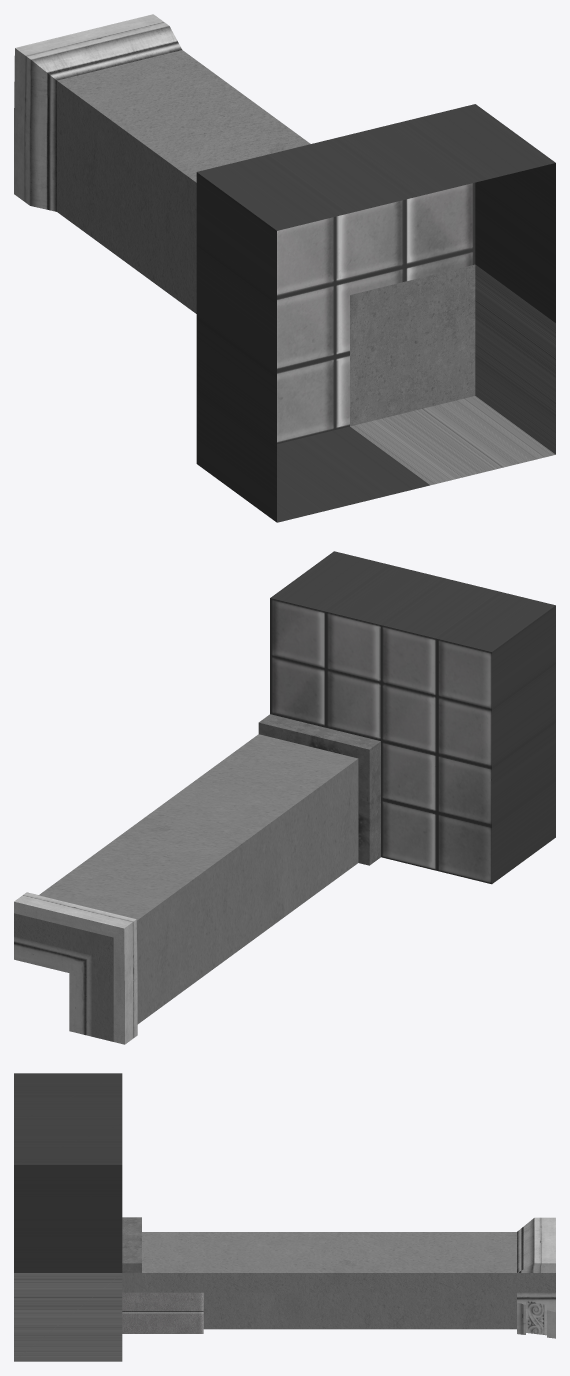
Rendered from A_ground_wall_ 2m_corner_B.fbx.
The picture shows the model from 3 angles, top to bottom: view 1: azimuth 30°, elevation 25°; view 2: azimuth 150°, elevation 25°; view 3: azimuth 270°, elevation 25°; orthographic projection. The views are drawn at different scales.
Parts seen in each view (by area): view 1: A_ground_wall__2m_corner_B; view 2: A_ground_wall__2m_corner_B; view 3: A_ground_wall__2m_corner_B.
Part boxes in pixels (x1=…): A_ground_wall__2m_corner_B: x1=14, y1=14, x2=555, y2=522; A_ground_wall__2m_corner_B: x1=14, y1=551, x2=555, y2=1044; A_ground_wall__2m_corner_B: x1=14, y1=1073, x2=555, y2=1361.
Bounding box in the file's own units: 2 × 2 × 5.
